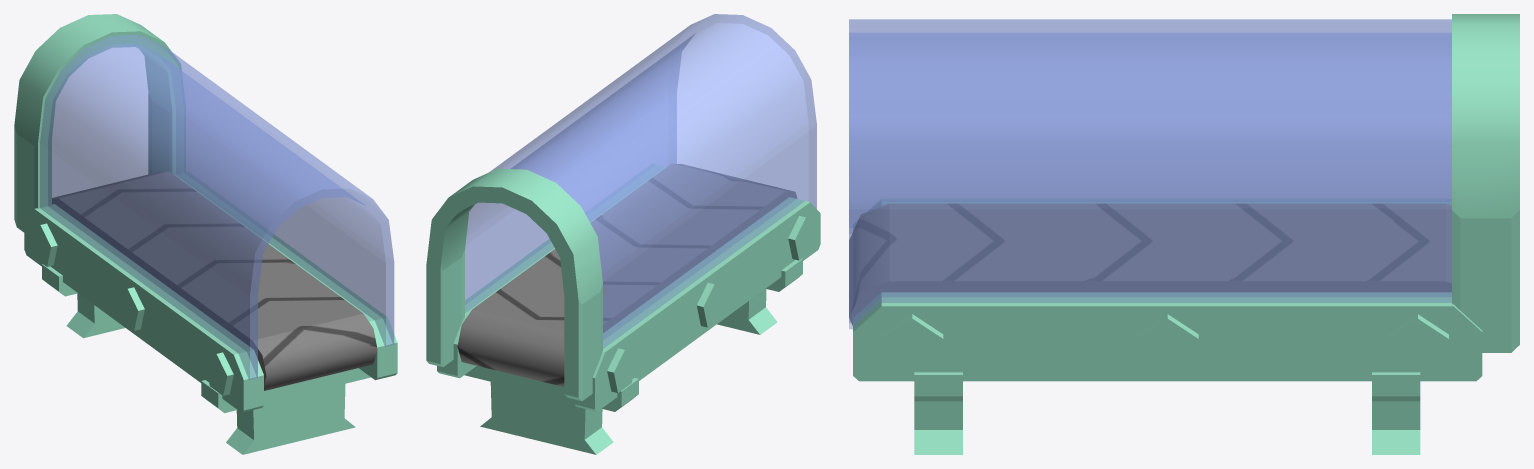
Rendered from factory_belt.FBX.
3 renders of one model, left to right at view 1: azimuth 30°, elevation 25°; view 2: azimuth 150°, elevation 25°; view 3: azimuth 270°, elevation 25°, orthographic. The views are drawn at different scales.
Visible parts, largest first — view 1: factory_belt_base, factory_belt_belt; view 2: factory_belt_base, factory_belt_belt; view 3: factory_belt_base, factory_belt_belt.
Boxes of the visible parts, left/top/right/bottom form: factory_belt_base: left=14, top=14, right=397, bottom=454; factory_belt_belt: left=52, top=172, right=377, bottom=390; factory_belt_base: left=426, top=14, right=820, bottom=454; factory_belt_belt: left=457, top=164, right=797, bottom=386; factory_belt_base: left=849, top=14, right=1519, bottom=454; factory_belt_belt: left=849, top=204, right=1451, bottom=325.
Bounding box in the file's own units: 130 × 316 × 202.
